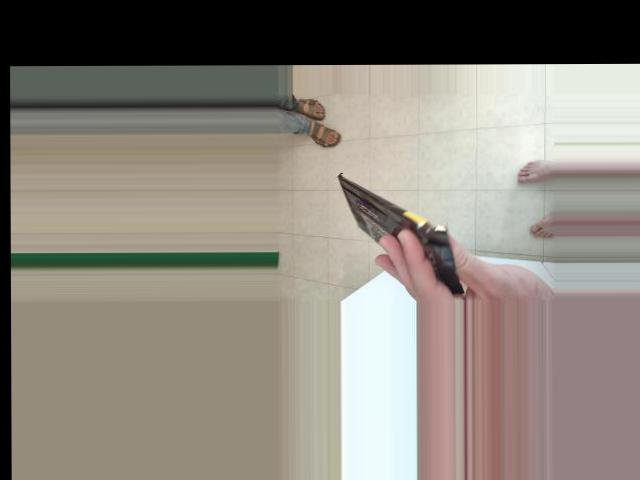chocolate: (352, 108, 480, 254)
